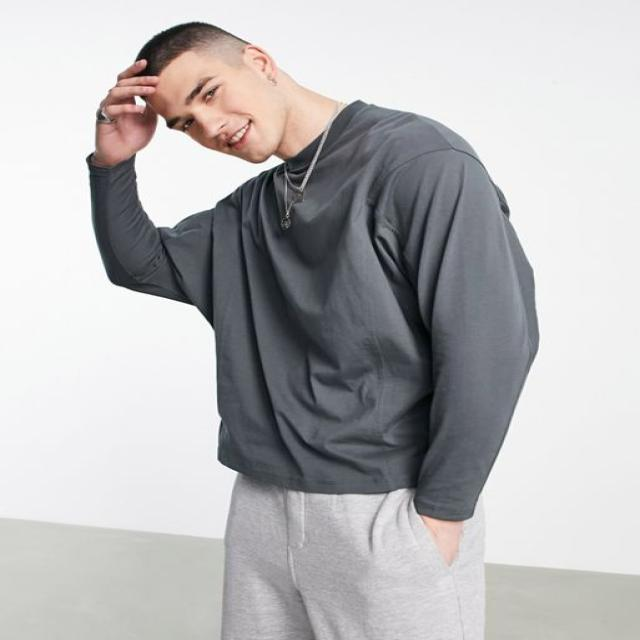tshirt: (88, 100, 540, 517)
